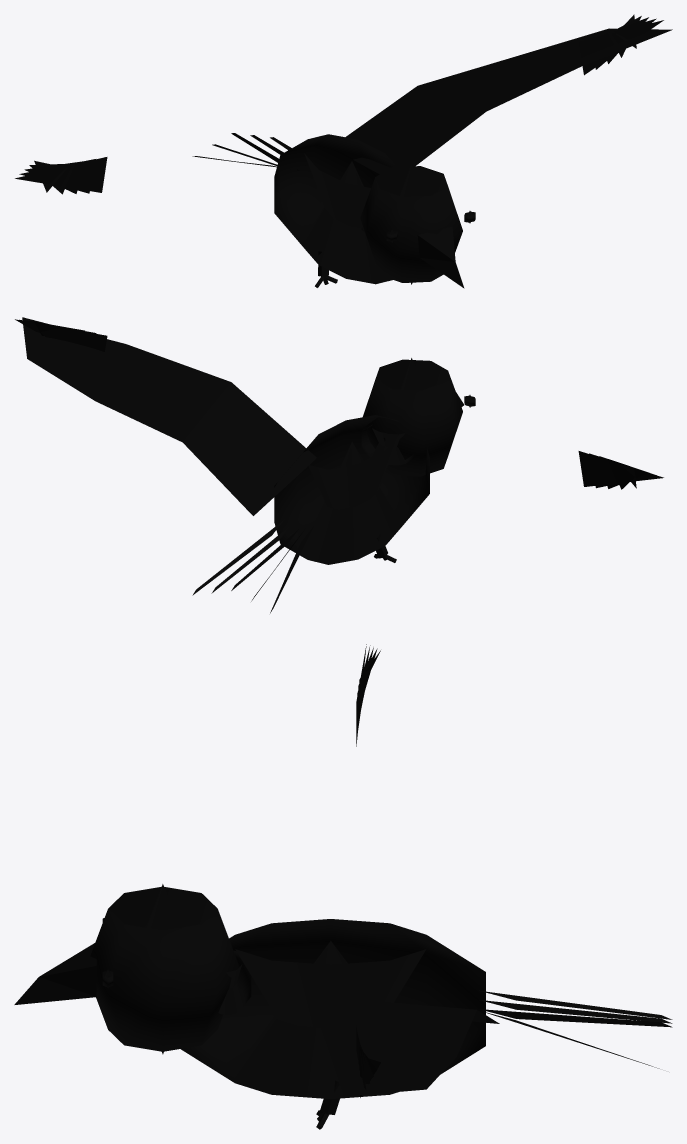
Rendered from gliding_04.glb.
3 renders of one model, top to bottom at view 1: azimuth 30°, elevation 25°; view 2: azimuth 150°, elevation 25°; view 3: azimuth 270°, elevation 25°, orthographic. The views are drawn at different scales.
Visible parts, largest first — view 1: RaptorBody; view 2: RaptorBody; view 3: RaptorBody.
Part boxes in pixels (x1,y1,x2,y2): RaptorBody: (15,14,672,288); RaptorBody: (15,317,663,613); RaptorBody: (14,644,672,1129).
Size of the model in its own units: 1.79 by 0.4682 by 1.12.
7 materials, 7 textured.
